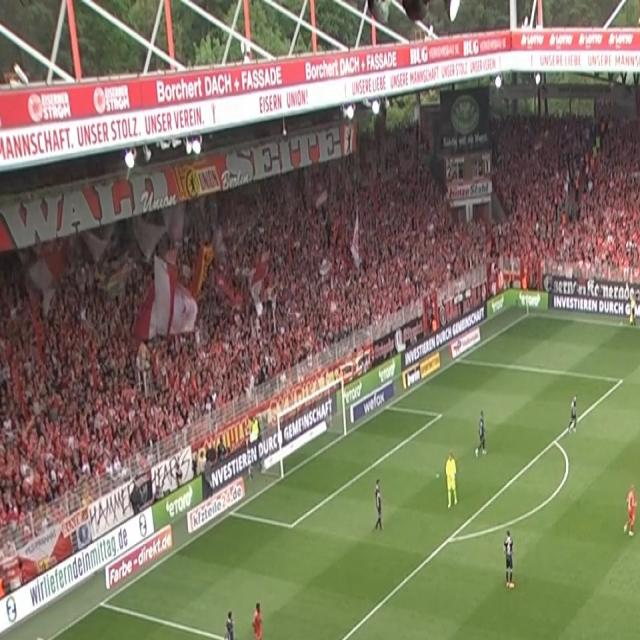ball: (450, 472, 456, 482)
